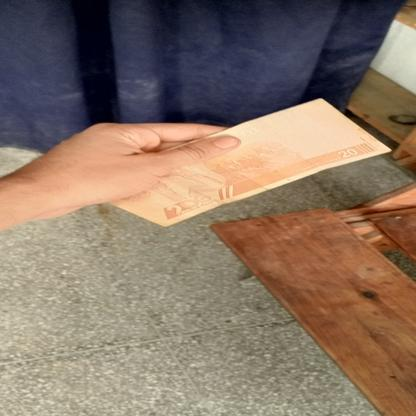twenty-back-vef: (104, 96, 392, 228)
